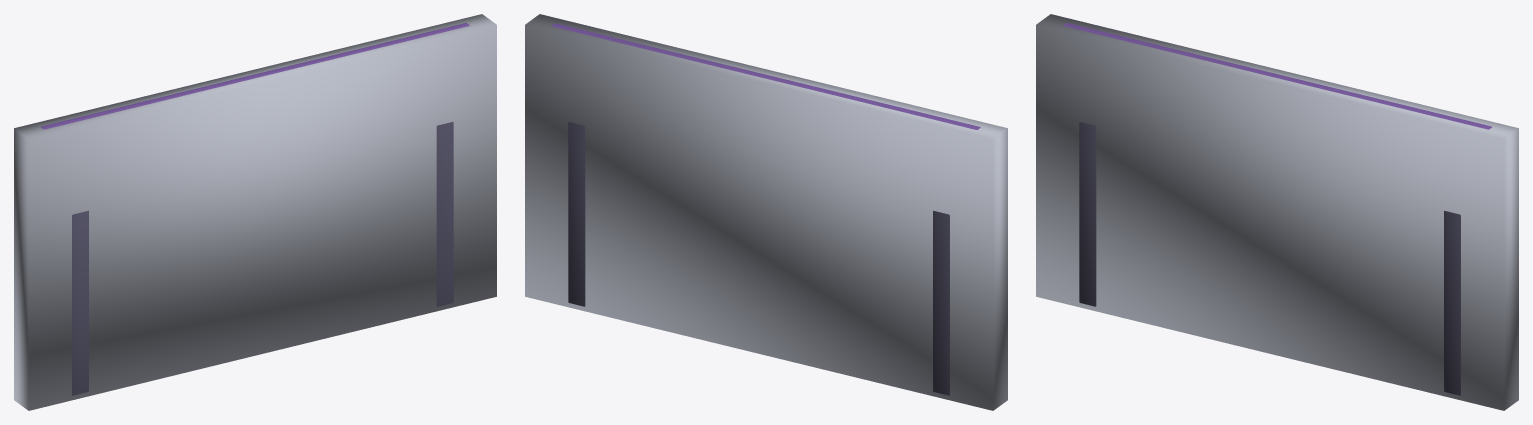
File: PlotSign.fbx
3 renders of one model, left to right at view 1: azimuth 30°, elevation 25°; view 2: azimuth 150°, elevation 25°; view 3: azimuth 330°, elevation 25°, orthographic.
Parts seen in each view (by area): view 1: Root, Metal, Purple; view 2: Root, Metal, Purple; view 3: Root, Metal, Purple.
Part boxes in pixels (<box>): Root: <box>14,14,496,410</box>; Metal: <box>72,122,453,395</box>; Purple: <box>41,23,469,129</box>; Root: <box>525,14,1007,410</box>; Metal: <box>568,122,949,395</box>; Purple: <box>552,23,980,129</box>; Root: <box>1036,14,1518,410</box>; Metal: <box>1079,122,1460,395</box>; Purple: <box>1063,23,1491,129</box>.
Size of the model in its own units: 17.98 by 10 by 1.
